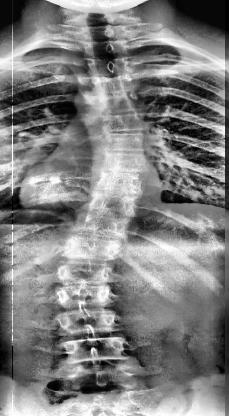Vertebrae: (63, 336, 129, 360), (58, 310, 121, 334), (64, 236, 116, 260), (56, 260, 112, 282), (91, 112, 147, 134), (97, 150, 147, 174), (82, 210, 128, 236), (60, 284, 114, 306), (94, 132, 146, 154), (95, 171, 143, 193), (91, 192, 139, 212), (93, 94, 140, 114), (93, 75, 135, 95), (86, 57, 128, 74), (84, 39, 126, 55), (84, 26, 124, 40)
